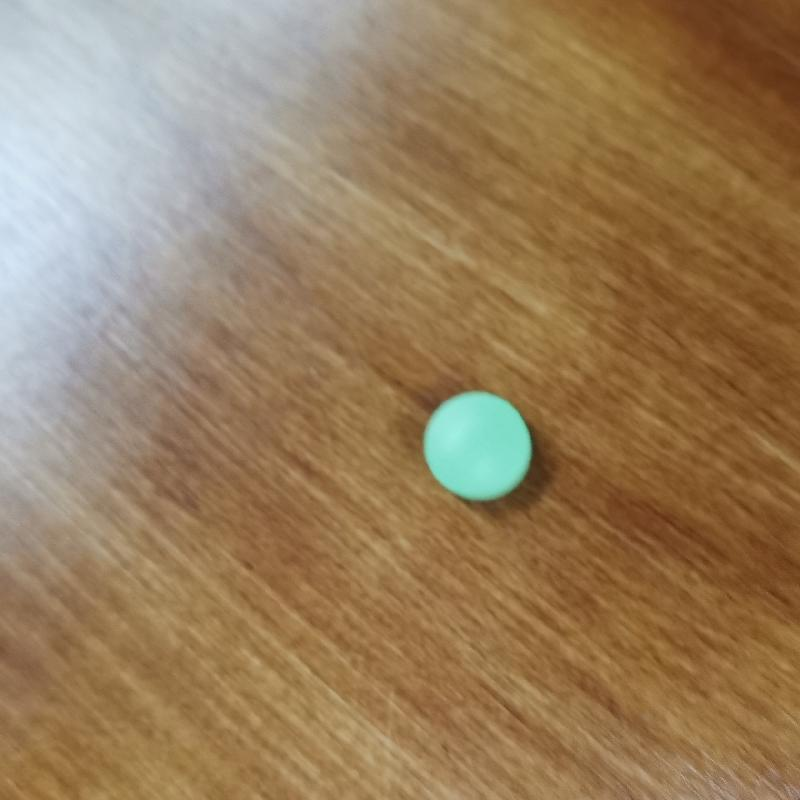pills: (418, 386, 547, 515)
